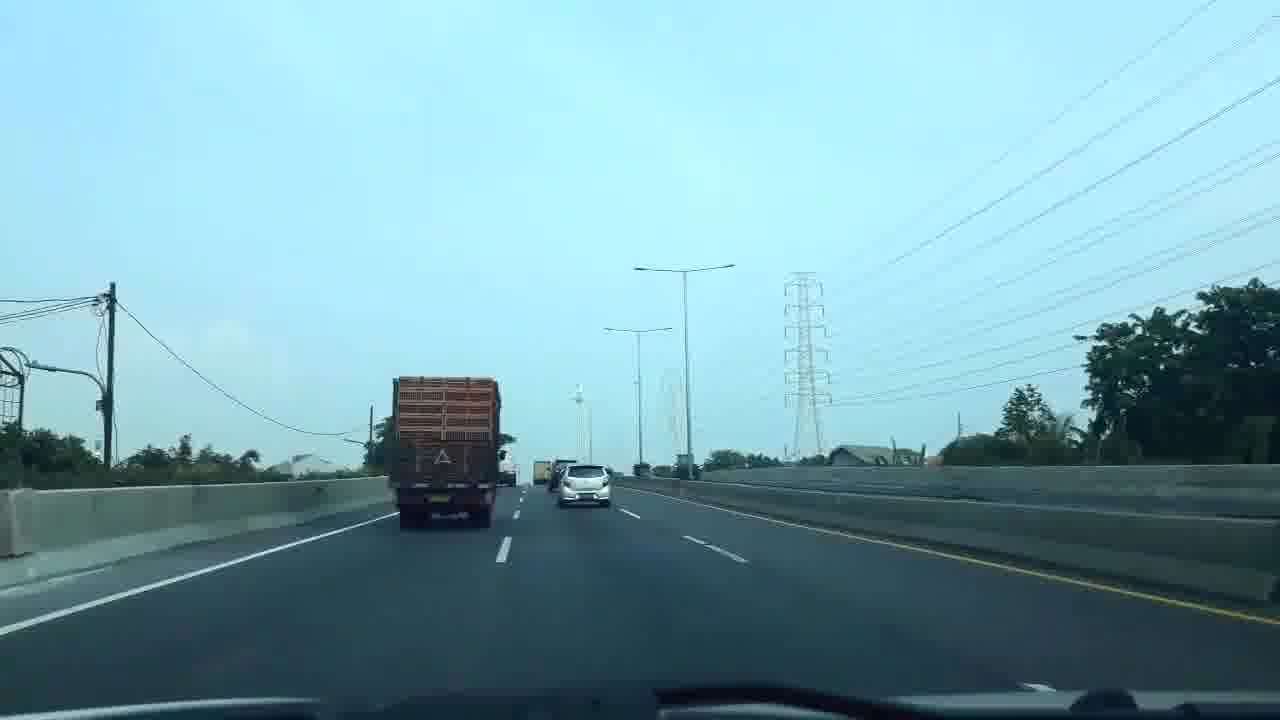plate_positive: (430, 495, 449, 503), (579, 493, 593, 499)
